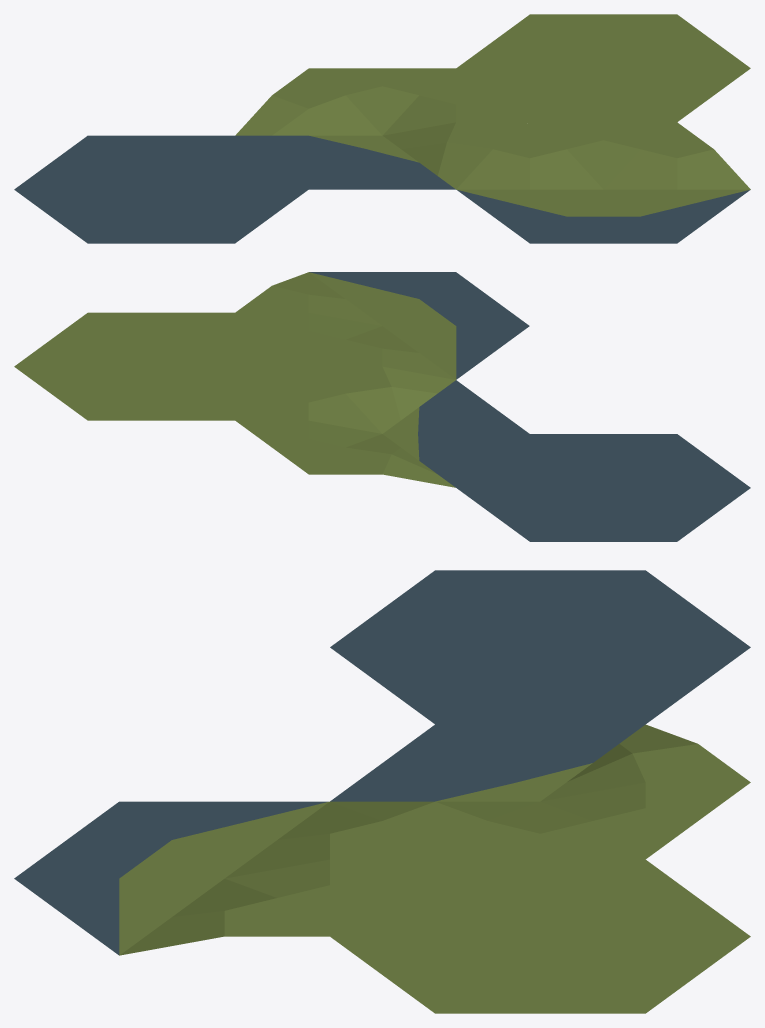
Rendered from proto4.fbx.
The picture shows the model from 3 angles, top to bottom: view 1: azimuth 30°, elevation 25°; view 2: azimuth 150°, elevation 25°; view 3: azimuth 270°, elevation 25°; orthographic projection. The views are drawn at different scales.
Visible parts, largest first — view 1: Hex.002, Hex.001, Hex, Hex.003; view 2: Hex.003, Hex.001, Hex, Hex.002; view 3: Hex, Hex.003, Hex.002, Hex.001.
Part boxes in pixels (<box>): Hex.002: <box>456,122,750,243</box>; Hex.001: <box>235,68,529,189</box>; Hex: <box>14,135,308,243</box>; Hex.003: <box>456,14,750,122</box>; Hex.003: <box>14,312,308,420</box>; Hex.001: <box>235,366,529,487</box>; Hex: <box>456,434,750,541</box>; Hex.002: <box>235,272,529,379</box>; Hex: <box>330,570,750,724</box>; Hex.003: <box>330,859,750,1013</box>; Hex.002: <box>14,801,434,955</box>; Hex.001: <box>330,724,750,859</box>.
Bounding box in the file's own units: 520 × 10 × 350.
